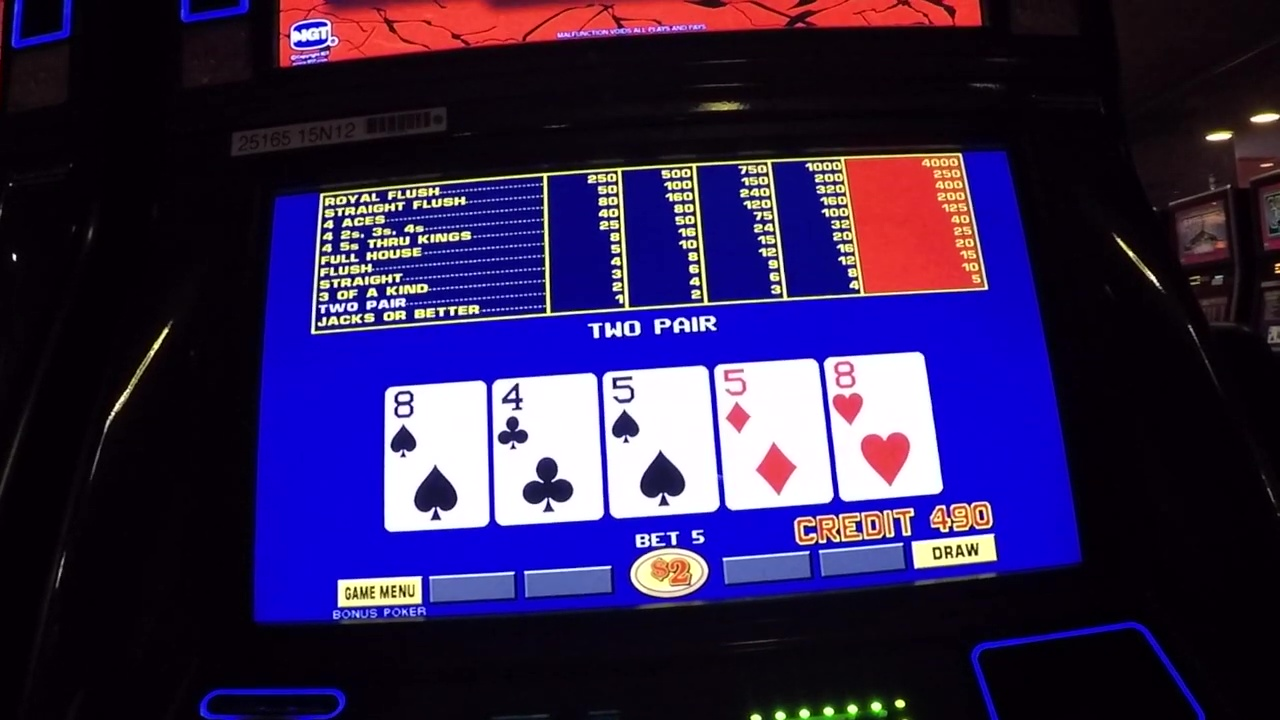C4: (496, 379, 595, 448)
D5: (720, 365, 820, 436)
H8: (833, 359, 925, 426)
S5: (608, 372, 708, 445)
S8: (387, 388, 484, 457)
